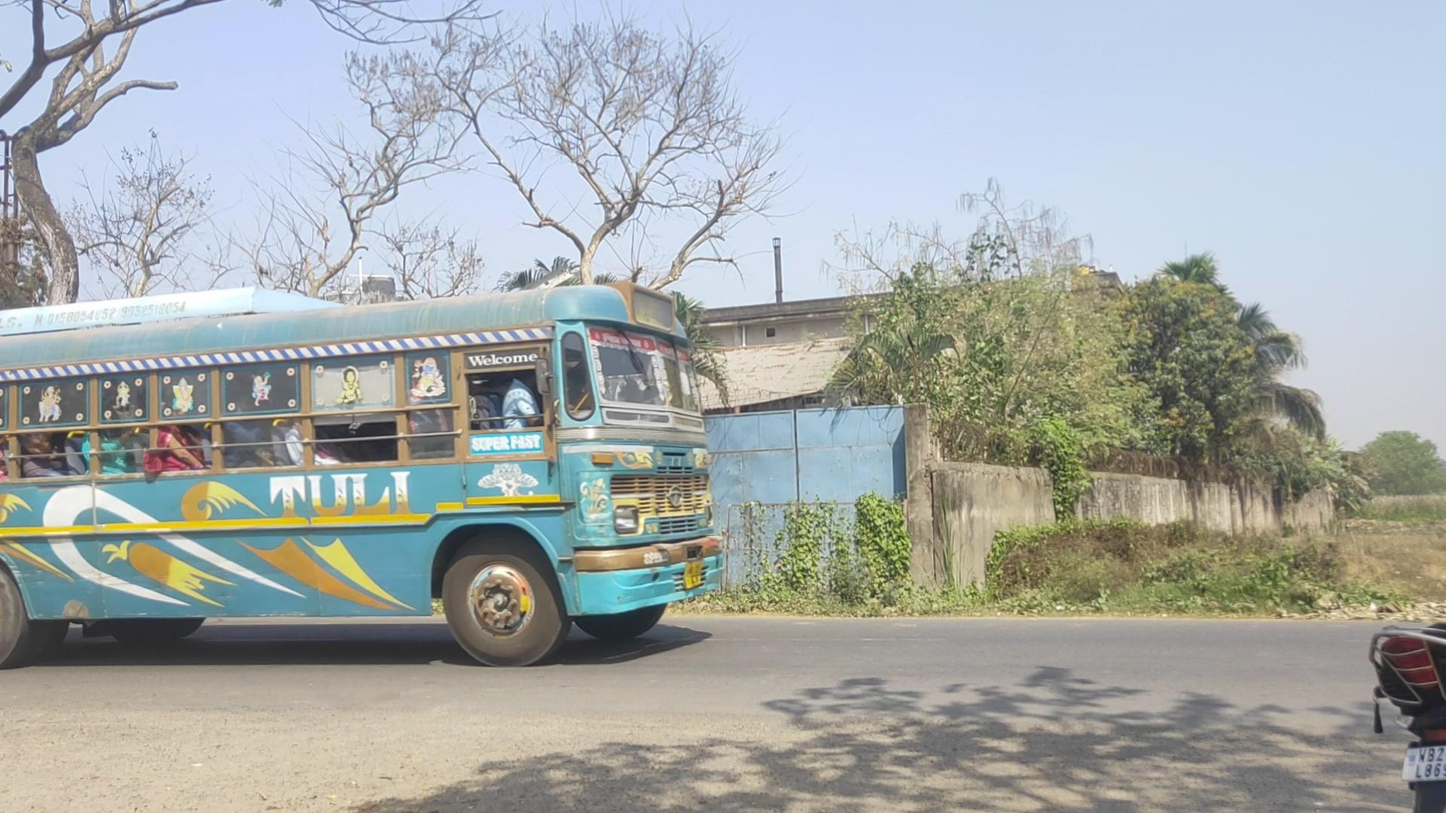Bus: (1, 281, 724, 670)
